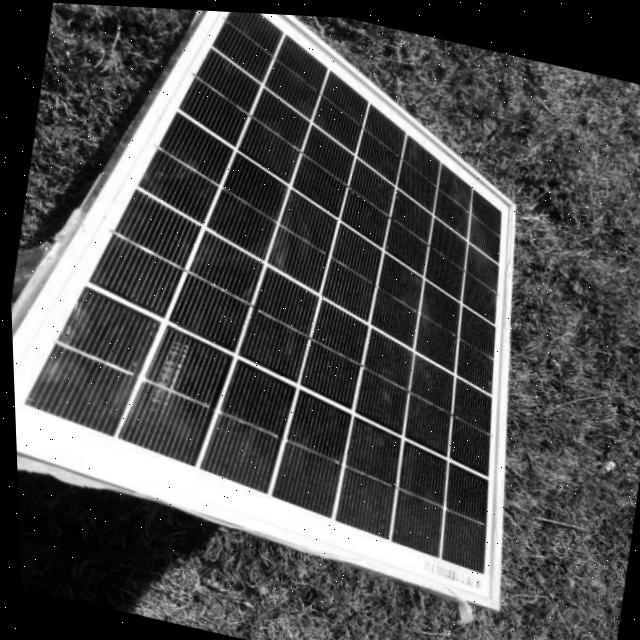Normal Solar Panel: (0, 0, 585, 602)
